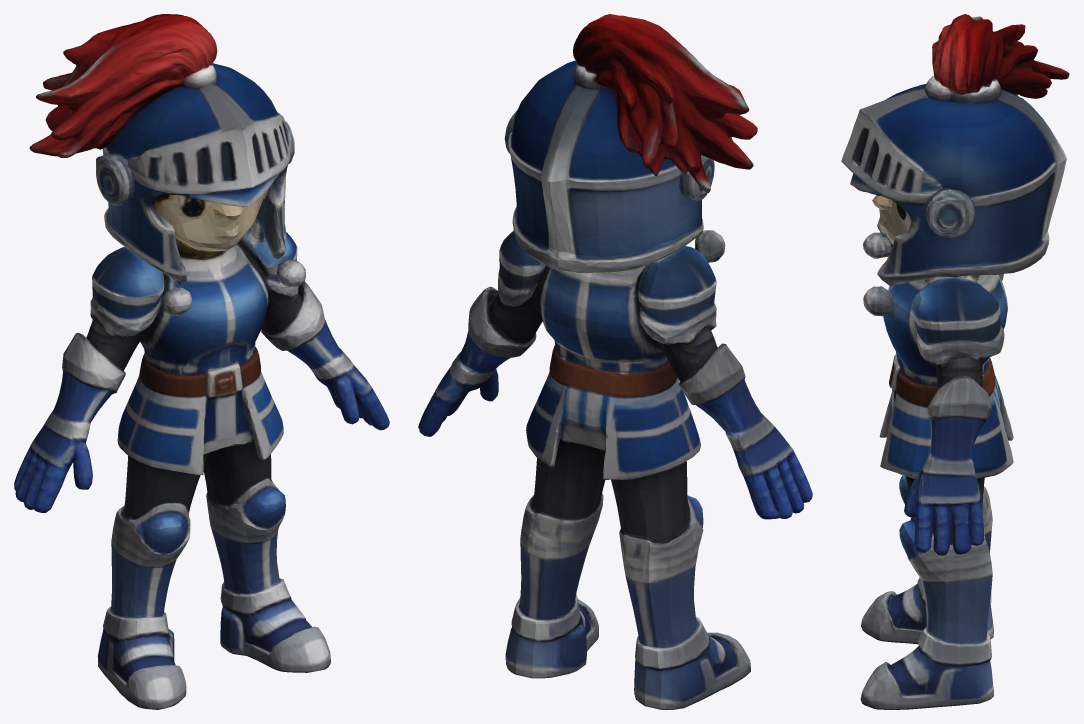
The model's file is knight_trellis.glb.
3 views of the same model, side by side, from view 1: azimuth 30°, elevation 25°; view 2: azimuth 150°, elevation 25°; view 3: azimuth 270°, elevation 25° (orthographic). The views are drawn at different scales.
Parts seen in each view (by area): view 1: world; view 2: world; view 3: world.
Part boxes in pixels (x1,y1,x2,y2): world: (14,14,389,709); world: (418,14,812,709); world: (841,14,1069,709).
Bounding box in the file's own units: 0.586 × 0.9989 × 0.3311.
1 material, 1 textured.
